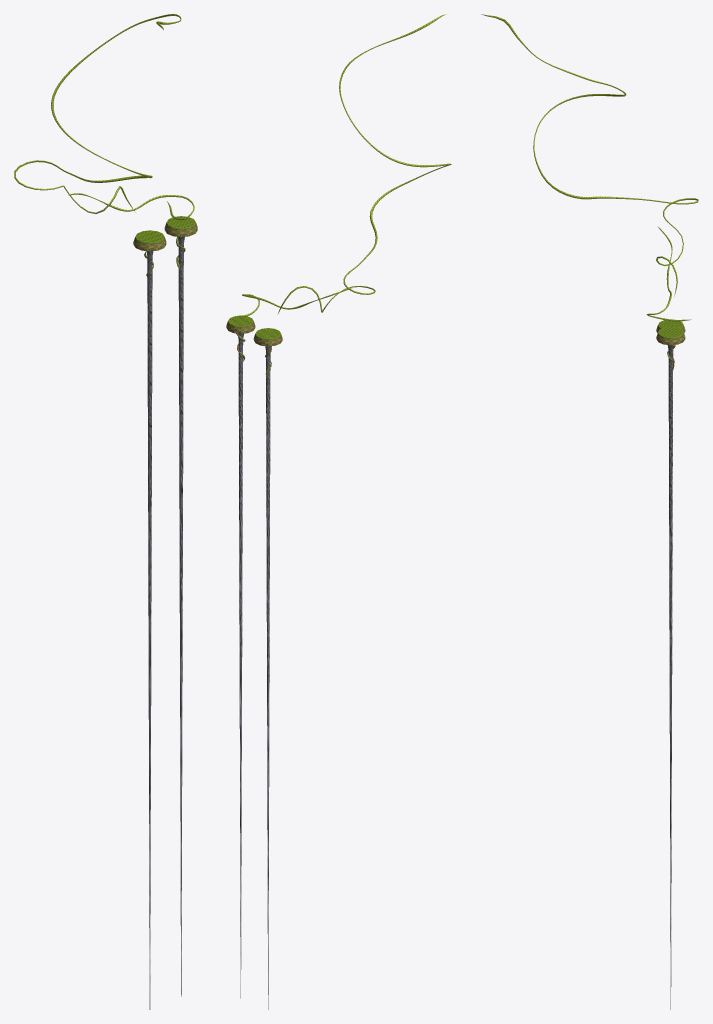
The model's file is Frog Forest 8.fbx.
3 views of the same model, side by side, from view 1: azimuth 30°, elevation 25°; view 2: azimuth 150°, elevation 25°; view 3: azimuth 270°, elevation 25° (orthographic). The views are drawn at different scales.
Parts seen in each view (by area): view 1: Object_2.011, Object_2.010; view 2: Object_2.011; view 3: Object_2.011.
Part boxes in pixels (x1,y1,x2,y2): Object_2.011: (14, 14, 197, 1009); Object_2.010: (135, 216, 195, 242); Object_2.011: (226, 14, 451, 1009); Object_2.011: (481, 14, 698, 1009).
Size of the model in its own units: 151030 by 810793 by 169473.
